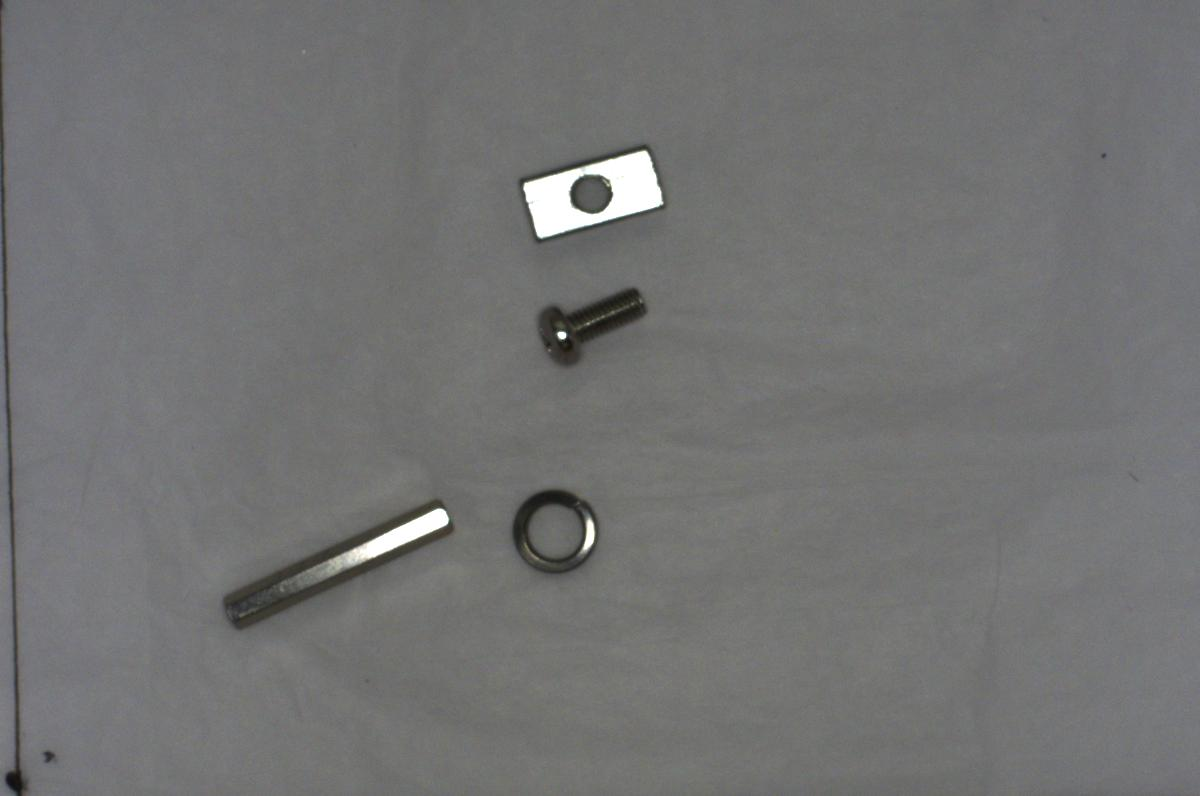Double hexagonal column: (224, 499, 453, 642)
Rectangular nut: (518, 149, 666, 239)
Round head screw: (537, 281, 653, 363)
Spring washer: (504, 481, 604, 578)
